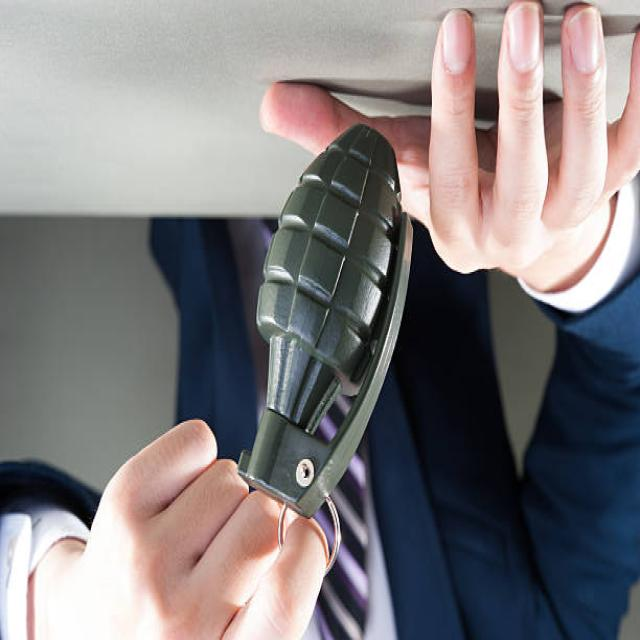grenade: (234, 125, 421, 584)
